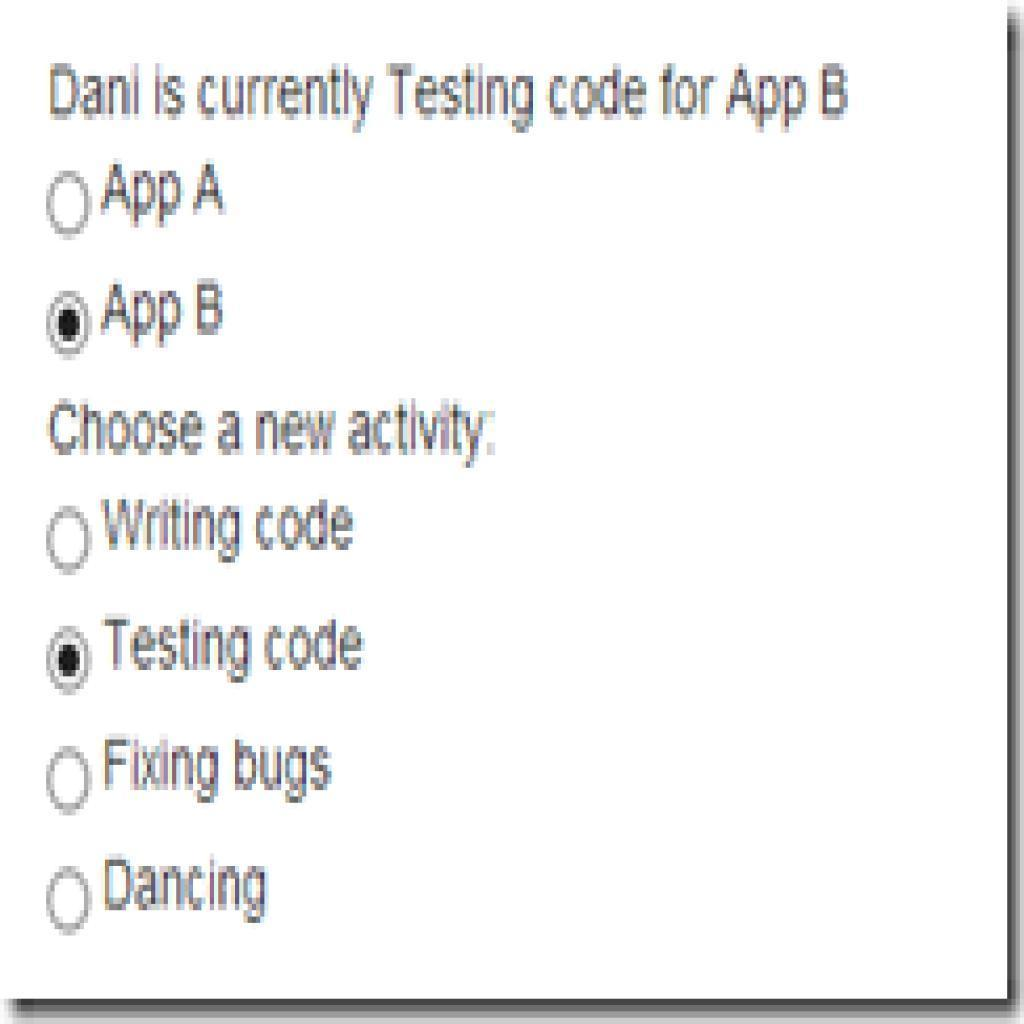label: (98, 492, 365, 566), (98, 612, 365, 681), (101, 734, 337, 808), (100, 855, 273, 930), (100, 155, 233, 232), (101, 280, 228, 350)
radio: (46, 290, 97, 365), (44, 628, 97, 699), (45, 168, 95, 243), (42, 864, 93, 937), (45, 744, 96, 816), (45, 502, 93, 578)
